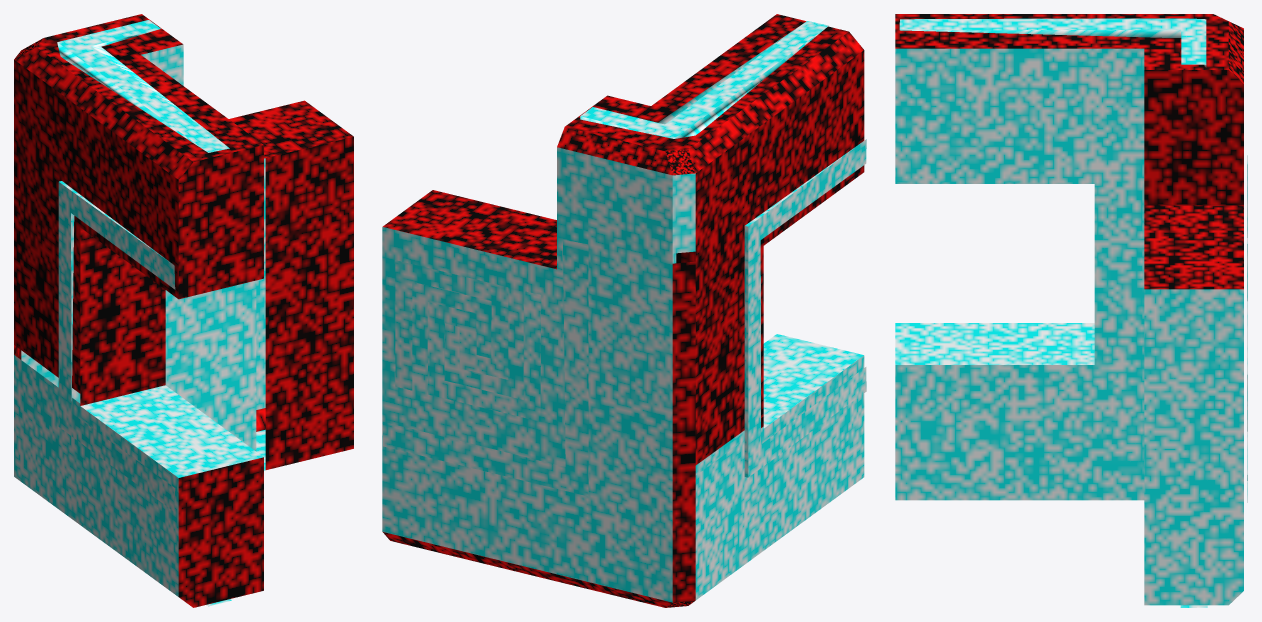
The model's file is SM_MonadBless_Separate_06_GDH.fbx.
3 views of the same model, side by side, from view 1: azimuth 30°, elevation 25°; view 2: azimuth 150°, elevation 25°; view 3: azimuth 270°, elevation 25° (orthographic). The views are drawn at different scales.
Visible parts, largest first — view 1: SM_MonadBless_Separate_06_GDH; view 2: SM_MonadBless_Separate_06_GDH; view 3: SM_MonadBless_Separate_06_GDH.
Boxes of the visible parts, x1,y1,x2,y2 form: SM_MonadBless_Separate_06_GDH: (14, 14, 353, 607); SM_MonadBless_Separate_06_GDH: (382, 14, 866, 607); SM_MonadBless_Separate_06_GDH: (895, 14, 1247, 607).
Bounding box in the file's own units: 14.3 × 20.52 × 14.29.
